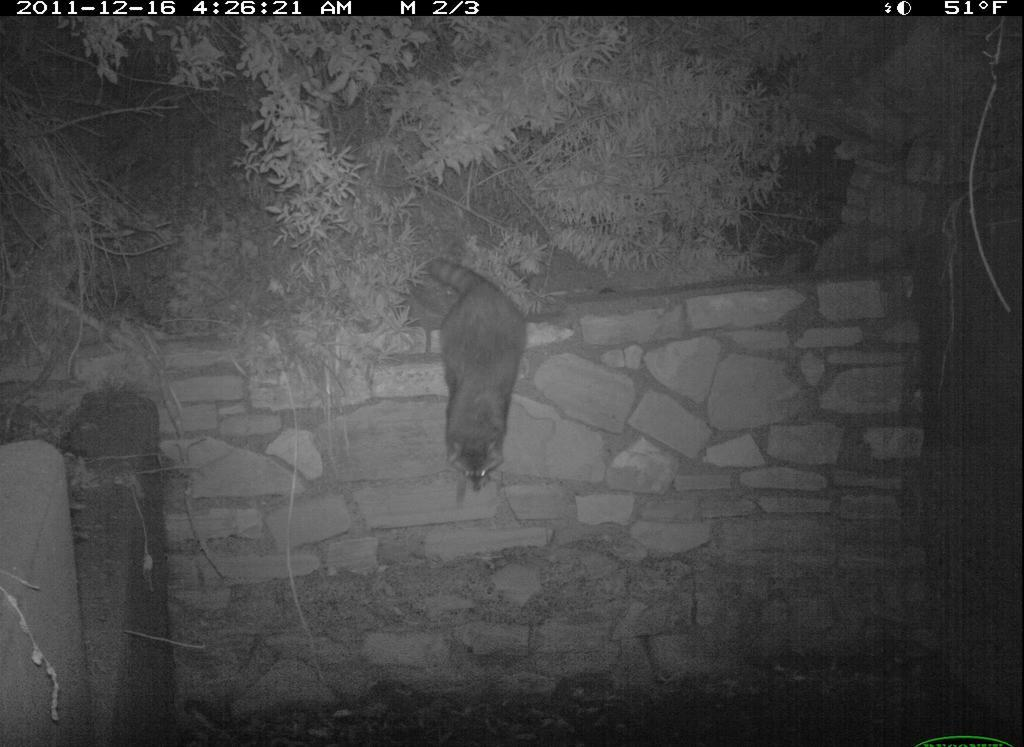raccoon: (419, 244, 538, 510)
